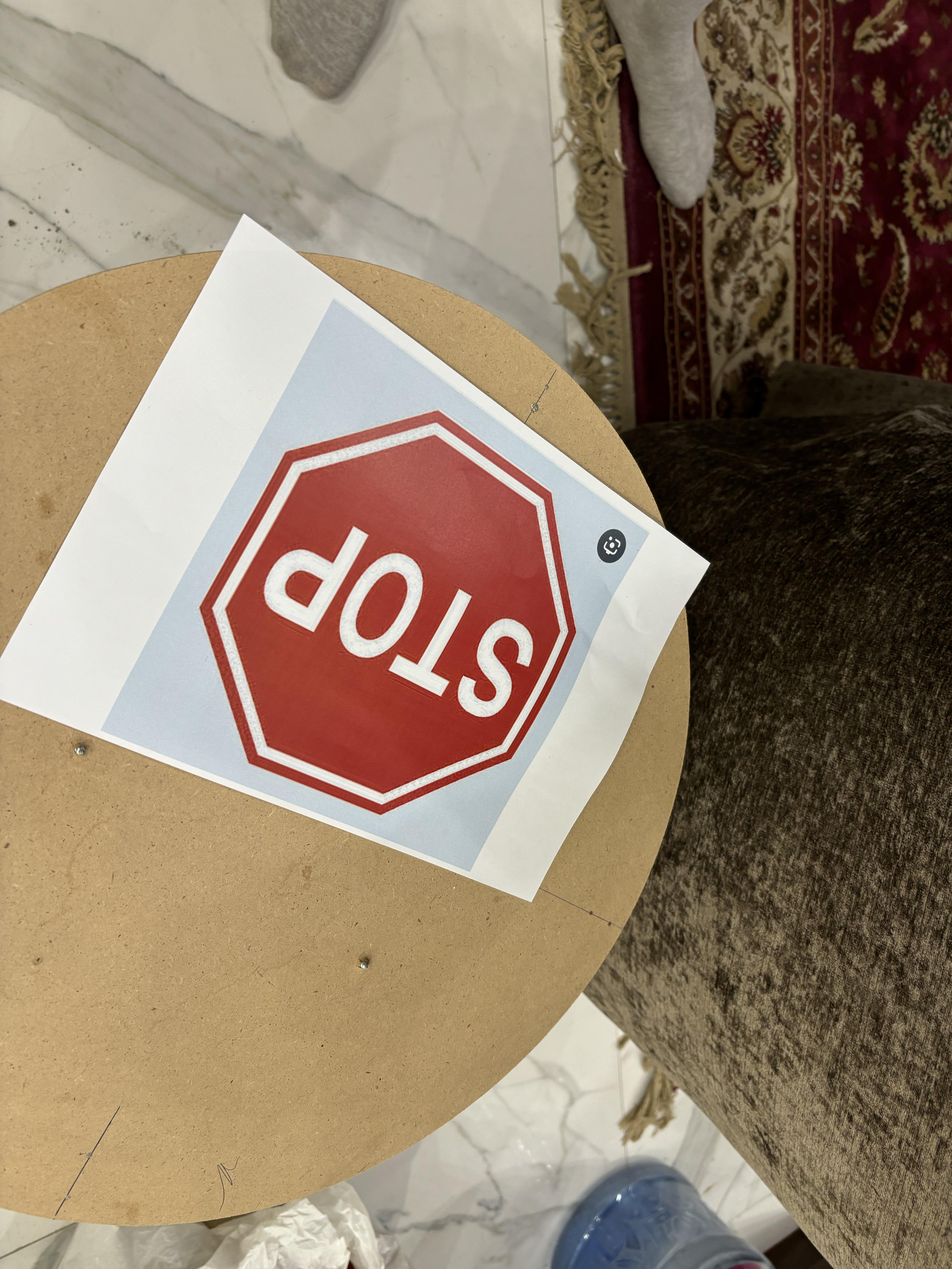Stop: (203, 416, 587, 808)
